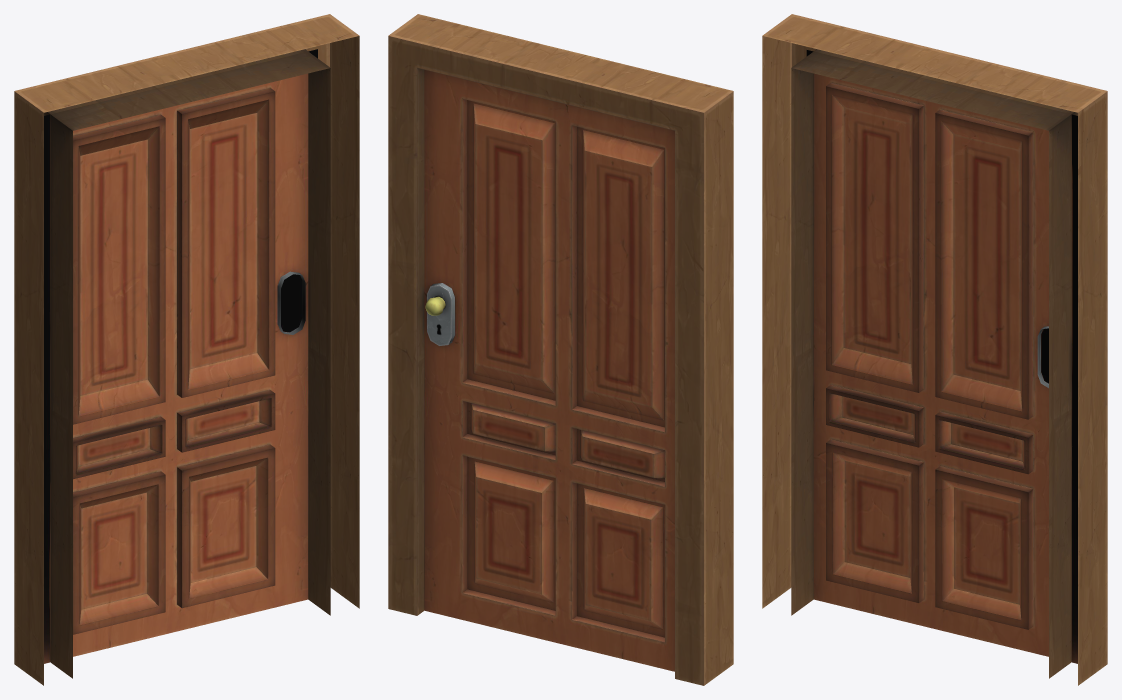
File: Door.obj
3 renders of one model, left to right at view 1: azimuth 30°, elevation 25°; view 2: azimuth 150°, elevation 25°; view 3: azimuth 330°, elevation 25°, orthographic.
Visible parts, largest first — view 1: Door; view 2: Door; view 3: Door.
Boxes of the visible parts, x1,y1,x2,y2 form: Door: (14, 14, 359, 685); Door: (388, 14, 733, 685); Door: (762, 14, 1107, 685).
Bounding box in the file's own units: 7.34 × 12.74 × 1.37.
